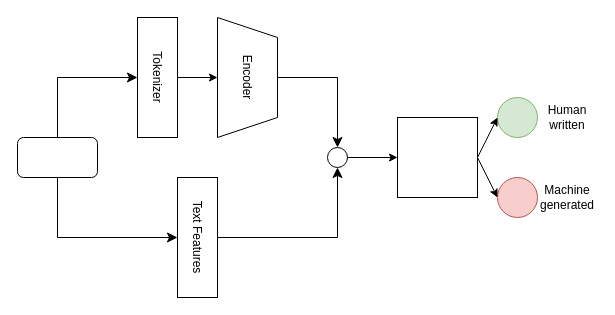
Some shapes in this 615 by 315 pixel diagram are drawn without their labels. Here are the shapes that lost their labels. From the top down, the centre of each, then its label:
[57,157]: Input Text
[437,157]: Neural Network Classifier
